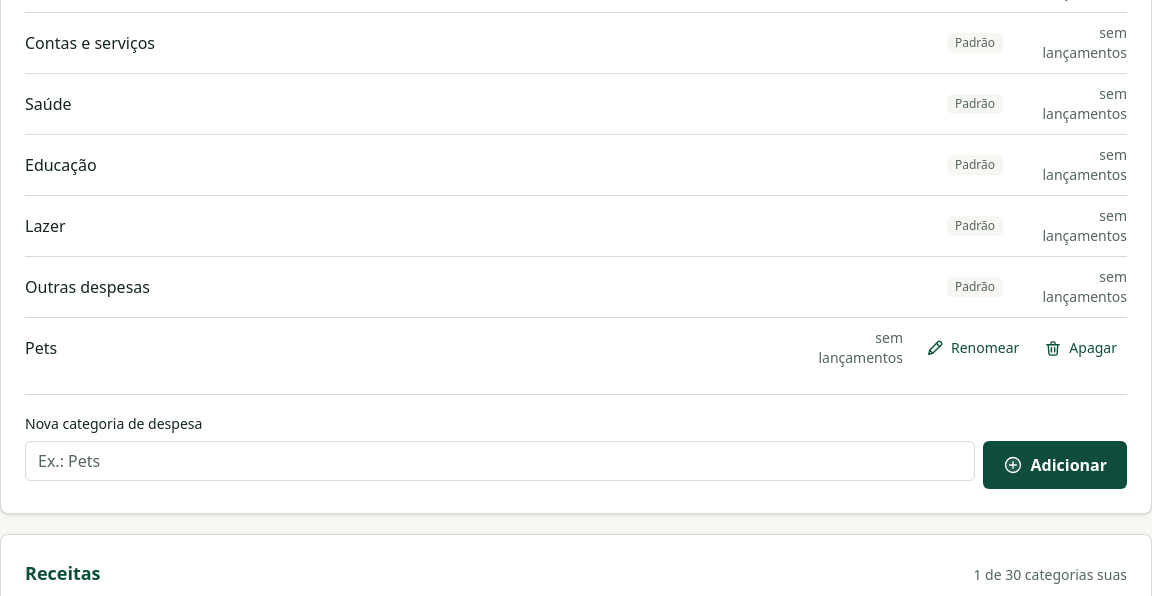
Test: página de categorias › renomear › nome inválido, conflito (409) e cancelar
(page scrolled)
Click the button with aria-label "Renomear Pets".
click(972, 348)  # box [915,330,1029,366]
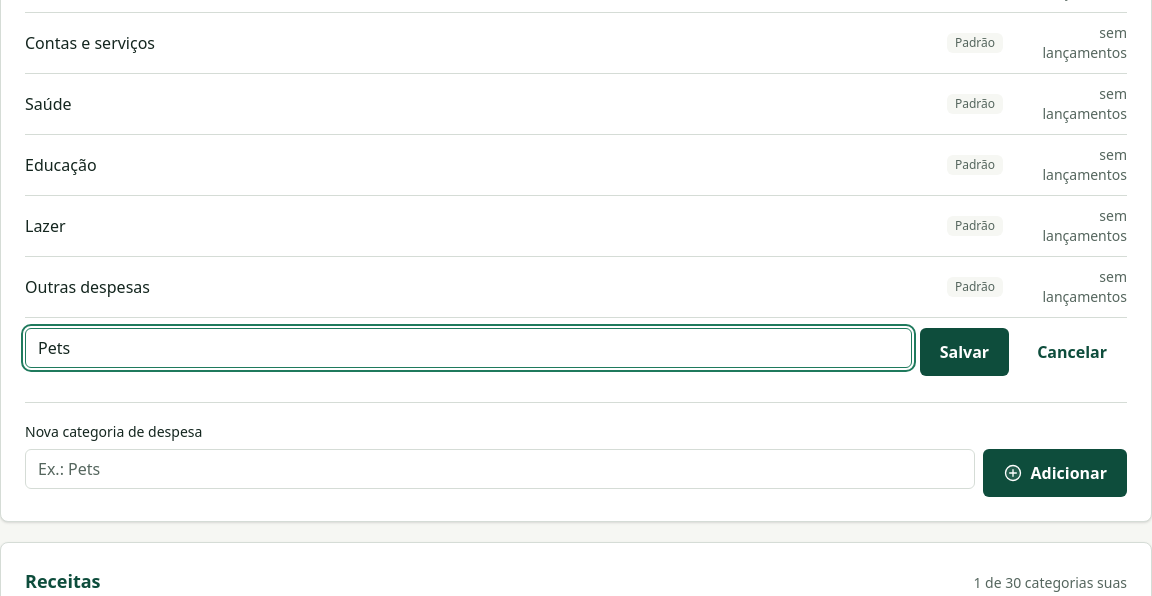
Replace the text in the field named "Novo nome de Pets" with "a" at (468, 348), box [25,328,912,368]
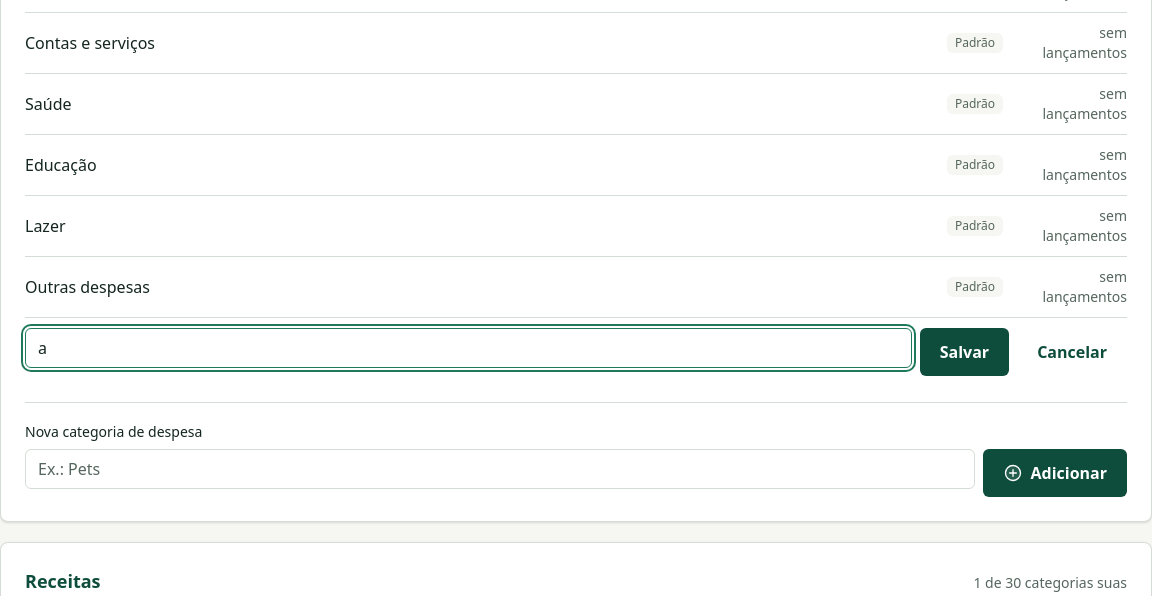
Click the button "Salvar".
click(964, 352)  # box [920,328,1009,376]
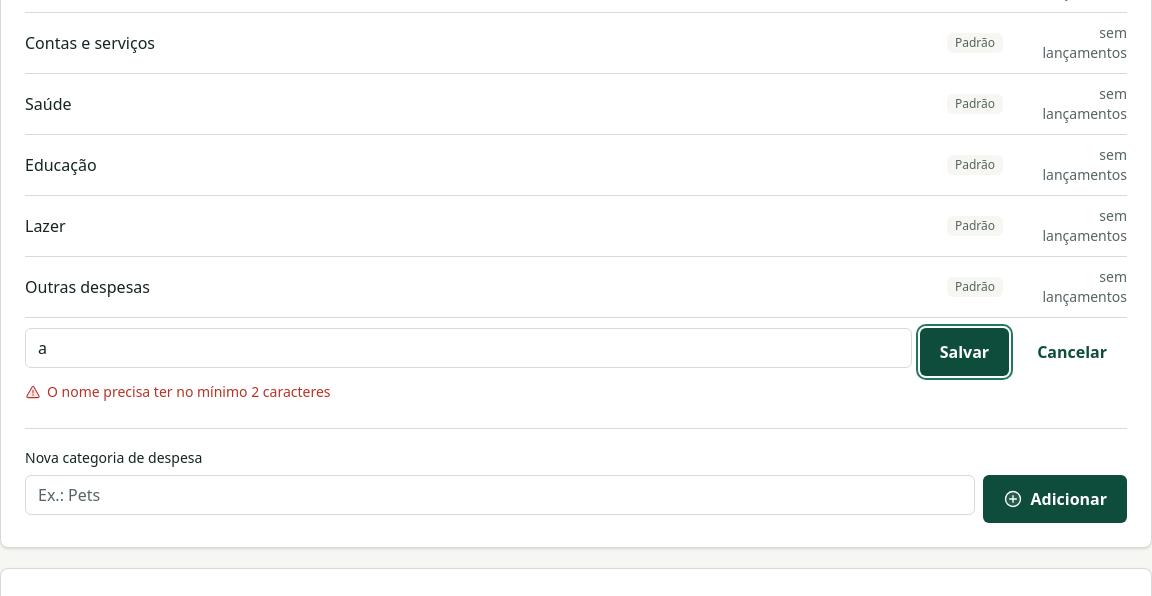
Expected: the message shows "mínimo 2", [47,382,330,401]
Replace the text in the field named "Novo nome de Pets" with "Viagens" at (468, 348), box [25,328,912,368]
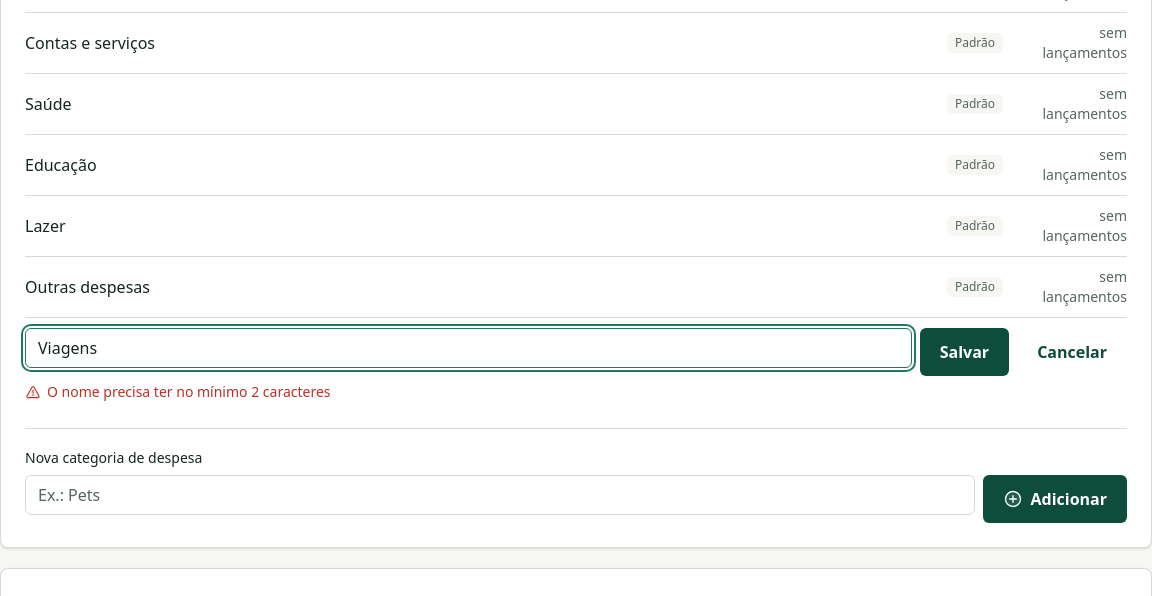
Click the button "Salvar".
click(964, 352)  # box [920,328,1009,376]
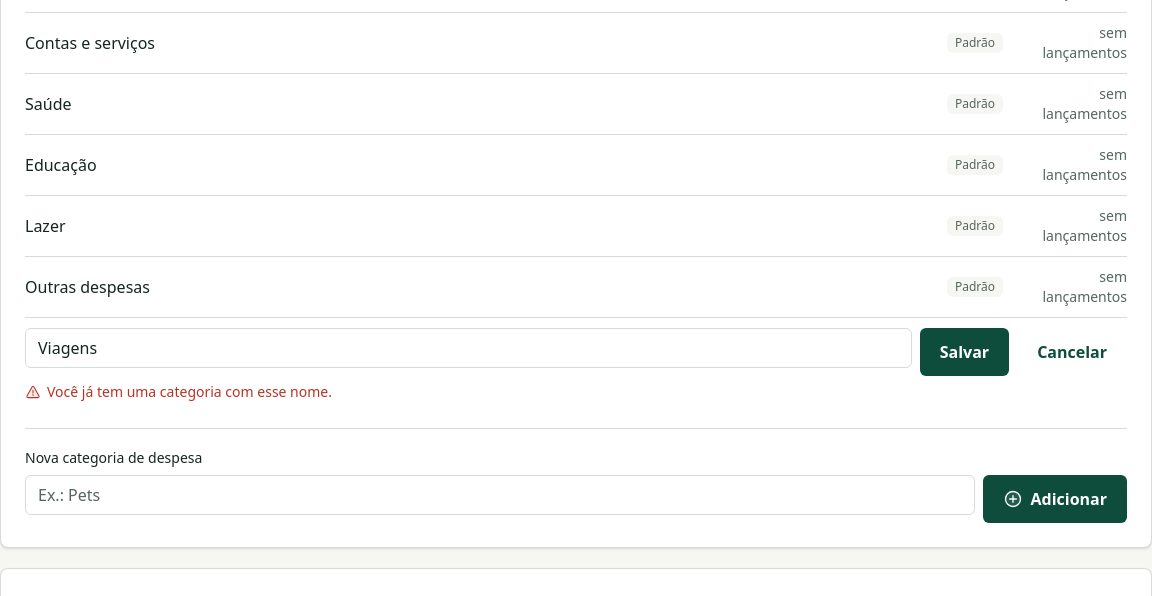
Expected: the text "Você já tem uma categoria com esse nome." is shown, [25,382,332,401]
Click the button "Cancelar".
click(1072, 352)  # box [1017,328,1127,376]
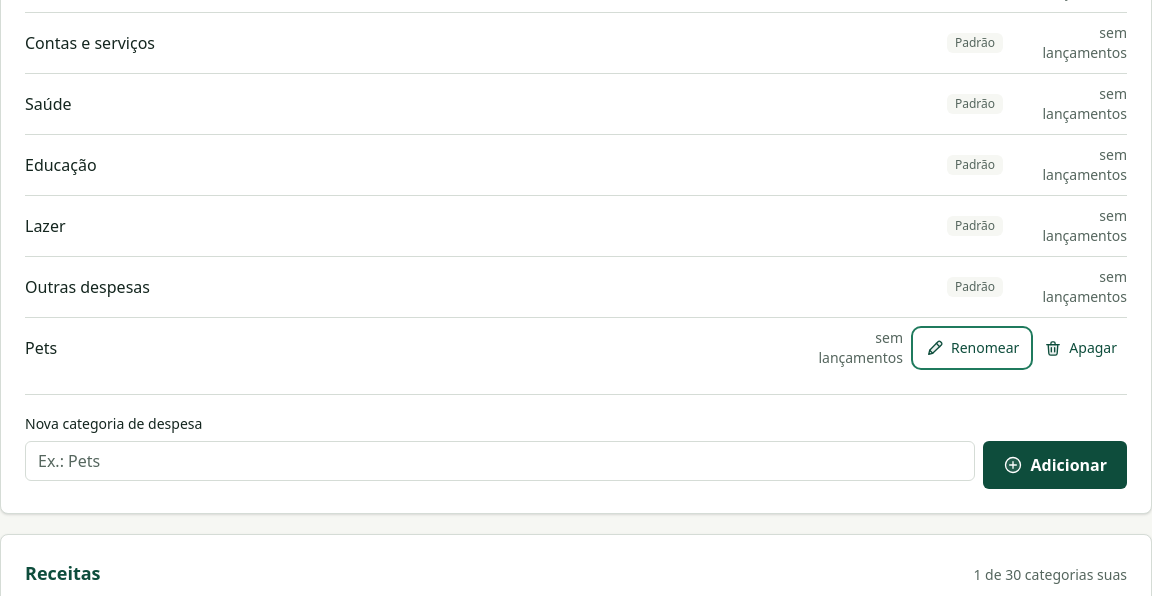
Expected: the field labelled "Novo nome de Pets" is not shown
Expected: the text "Pets" is shown, [25,337,57,359]
